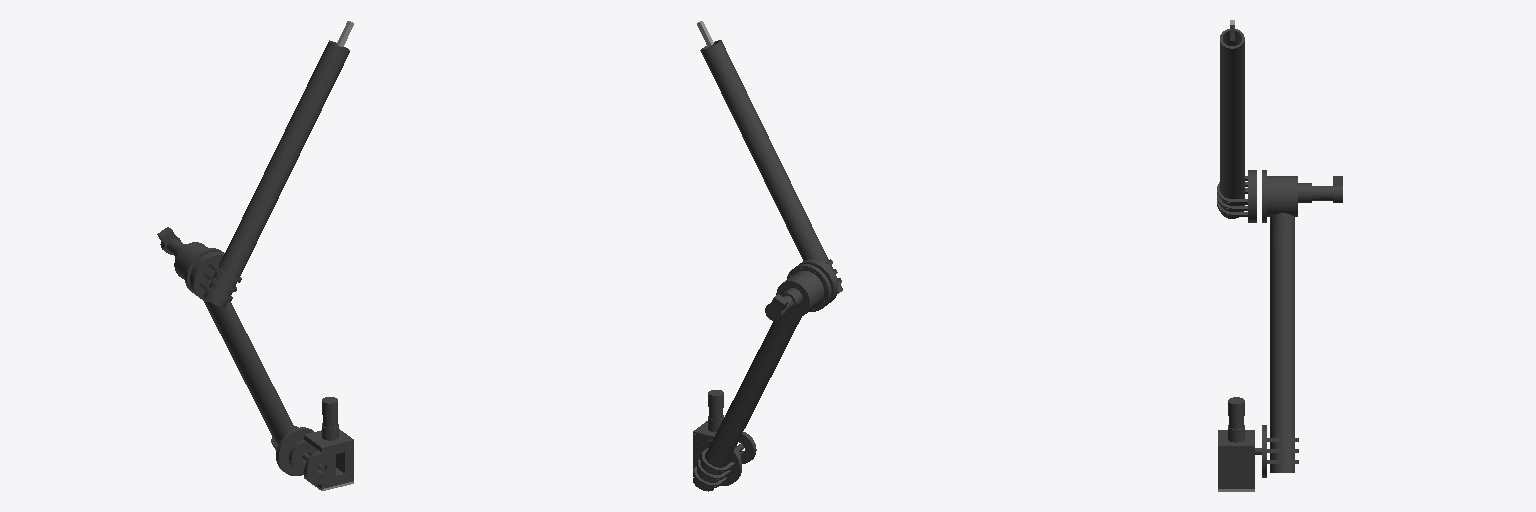
The robot description file, URDF, robot "arm":
<?xml version="1.0" ?>
<!-- =================================================================================== -->
<!-- |    This document was autogenerated by xacro from arm.xacro                      | -->
<!-- |    EDITING THIS FILE BY HAND IS NOT RECOMMENDED                                 | -->
<!-- =================================================================================== -->
<robot name="arm">
  <material name="silver_default">
    <color rgba="0.700 0.700 0.700 1.000"/>
  </material>
  <material name="default">
    <color rgba="0.3137254901960784 0.3137254901960784 0.3137254901960784 1.0"/>
  </material>
  <material name="steel_satin">
    <color rgba="0.6274509803921569 0.6274509803921569 0.6274509803921569 1.0"/>
  </material>
  <link name="base_link">
    <!-- <inertial>
    <origin xyz="-0.002716977299773592 1.9808719046125134e-13 -0.002500000000000375" rpy="0 0 0"/>
    <mass value="0.17190979108994076"/>
    <inertia ixx="7.2e-05" iyy="7.6e-05" izz="0.000147" ixy="-0.0" iyz="0.0" ixz="-0.0"/>
  </inertial> -->
    <visual>
      <origin rpy="0 0 0" xyz="0 0 0"/>
      <geometry>
        <mesh filename="package://arm_description/meshes/base_link.stl" scale="0.001 0.001 0.001"/>
      </geometry>
      <material name="steel_satin"/>
    </visual>
    <collision>
      <origin rpy="0 0 0" xyz="0 0 0"/>
      <geometry>
        <mesh filename="package://arm_description/meshes/base_link.stl" scale="0.001 0.001 0.001"/>
      </geometry>
    </collision>
  </link>
  <link name="link1_1">
    <inertial>
      <origin rpy="0 0 0" xyz="-0.1170701569437167 0.05258495071306836 0.24677061589144064"/>
      <mass value="0.6560949347888712"/>
      <inertia ixx="0.020432" ixy="0.000756" ixz="0.009271" iyy="0.024363" iyz="-0.001594" izz="0.005288"/>
    </inertial>
    <visual>
      <origin rpy="0 0 0" xyz="0.0375 -0.034 -0.0425"/>
      <geometry>
        <mesh filename="package://arm_description/meshes/link1_1.stl" scale="0.001 0.001 0.001"/>
      </geometry>
      <material name="default"/>
    </visual>
    <collision>
      <origin rpy="0 0 0" xyz="0.0375 -0.034 -0.0425"/>
      <geometry>
        <mesh filename="package://arm_description/meshes/link1_1.stl" scale="0.001 0.001 0.001"/>
      </geometry>
    </collision>
  </link>
  <link name="link2_1">
    <inertial>
      <origin rpy="0 0 0" xyz="0.0912652794492105 -0.04755997480137449 0.15715086928559246"/>
      <mass value="0.4295491979731537"/>
      <inertia ixx="0.0092" ixy="0.000233" ixz="-0.005183" iyy="0.01219" iyz="0.000401" izz="0.003285"/>
    </inertial>
    <visual>
      <origin rpy="0 0 0" xyz="0.235094 -0.046 -0.459007"/>
      <geometry>
        <mesh filename="package://arm_description/meshes/link2_1.stl" scale="0.001 0.001 0.001"/>
      </geometry>
      <material name="default"/>
    </visual>
    <collision>
      <origin rpy="0 0 0" xyz="0.235094 -0.046 -0.459007"/>
      <geometry>
        <mesh filename="package://arm_description/meshes/link2_1.stl" scale="0.001 0.001 0.001"/>
      </geometry>
    </collision>
  </link>
  <link name="tip_1">
    <inertial>
      <origin rpy="0 0 0" xyz="0.012554620120246197 2.599084142351771e-13 0.021619020423368274"/>
      <mass value="0.03924999999999999"/>
      <inertia ixx="7e-06" ixy="0.0" ixz="-3e-06" iyy="9e-06" iyz="0.0" izz="3e-06"/>
    </inertial>
    <visual>
      <origin rpy="0 0 0" xyz="-0.016007 0.0075 -0.891382"/>
      <geometry>
        <mesh filename="package://arm_description/meshes/tip_1.stl" scale="0.001 0.001 0.001"/>
      </geometry>
      <material name="steel_satin"/>
    </visual>
    <collision>
      <origin rpy="0 0 0" xyz="-0.016007 0.0075 -0.891382"/>
      <geometry>
        <mesh filename="package://arm_description/meshes/tip_1.stl" scale="0.001 0.001 0.001"/>
      </geometry>
    </collision>
  </link>
  <link name="shoulder_1">
    <inertial>
      <origin rpy="0 0 0" xyz="-0.00379841512801708 -4.326319553927361e-16 0.05885490789415437"/>
      <mass value="0.2699874429831712"/>
      <inertia ixx="0.000593" ixy="0.0" ixz="-1.7e-05" iyy="0.000639" iyz="-0.0" izz="0.0003"/>
    </inertial>
    <visual>
      <origin rpy="0 0 0" xyz="0.0 -0.0 0.0"/>
      <geometry>
        <mesh filename="package://arm_description/meshes/shoulder_1.stl" scale="0.001 0.001 0.001"/>
      </geometry>
      <material name="default"/>
    </visual>
    <collision>
      <origin rpy="0 0 0" xyz="0.0 -0.0 0.0"/>
      <geometry>
        <mesh filename="package://arm_description/meshes/shoulder_1.stl" scale="0.001 0.001 0.001"/>
      </geometry>
    </collision>
  </link>
  <joint name="Rev1" type="continuous">
    <origin rpy="0 0 0" xyz="-0.0375 0.034 0.0425"/>
    <parent link="shoulder_1"/>
    <child link="link1_1"/>
    <axis xyz="-0.0 1.0 -0.0"/>
  </joint>
  <joint name="Rev2" type="continuous">
    <origin rpy="0 0 0" xyz="-0.197594 0.012 0.416507"/>
    <parent link="link1_1"/>
    <child link="link2_1"/>
    <axis xyz="0.0 -1.0 0.0"/>
  </joint>
  <joint name="Rev3" type="revolute">
    <origin rpy="0 0 0" xyz="0.251101 -0.0535 0.432375"/>
    <parent link="link2_1"/>
    <child link="tip_1"/>
    <axis xyz="-0.0 1.0 0.0"/>
    <limit effort="100" lower="-1.22173" upper="1.22173" velocity="100"/>
  </joint>
  <joint name="Rev4" type="continuous">
    <origin rpy="0 0 0" xyz="0.0 0.0 0.0"/>
    <parent link="base_link"/>
    <child link="shoulder_1"/>
    <axis xyz="-0.0 0.0 1.0"/>
  </joint>
</robot>

--- Facts derived from the render (not from the file) ---
3 views of the same robot in one strip: view 1: azimuth 30°, elevation 25°; view 2: azimuth 150°, elevation 25°; view 3: azimuth 270°, elevation 25° (orthographic).
Model arm with 5 links and 4 joints (1 revolute, 3 continuous), rooted at base_link, posed all joints at 0.
Links seen in each view (by area): view 1: link2_1, link1_1, shoulder_1; view 2: link1_1, link2_1, shoulder_1; view 3: link1_1, link2_1, shoulder_1.
Link boxes in pixels (left/top/right/bottom): link2_1: left=190, top=40, right=349, bottom=307; link1_1: left=157, top=227, right=324, bottom=475; shoulder_1: left=289, top=397, right=353, bottom=488; link1_1: left=693, top=264, right=831, bottom=491; link2_1: left=700, top=40, right=842, bottom=305; shoulder_1: left=693, top=390, right=756, bottom=469; link1_1: left=1255, top=170, right=1342, bottom=477; link2_1: left=1217, top=29, right=1256, bottom=222; shoulder_1: left=1218, top=397, right=1254, bottom=488.
Size in the robot's own frame: 0.328 by 0.2275 by 0.9421 metres.
5 mesh visuals loaded from 5 distinct referenced files (5 binary STL).